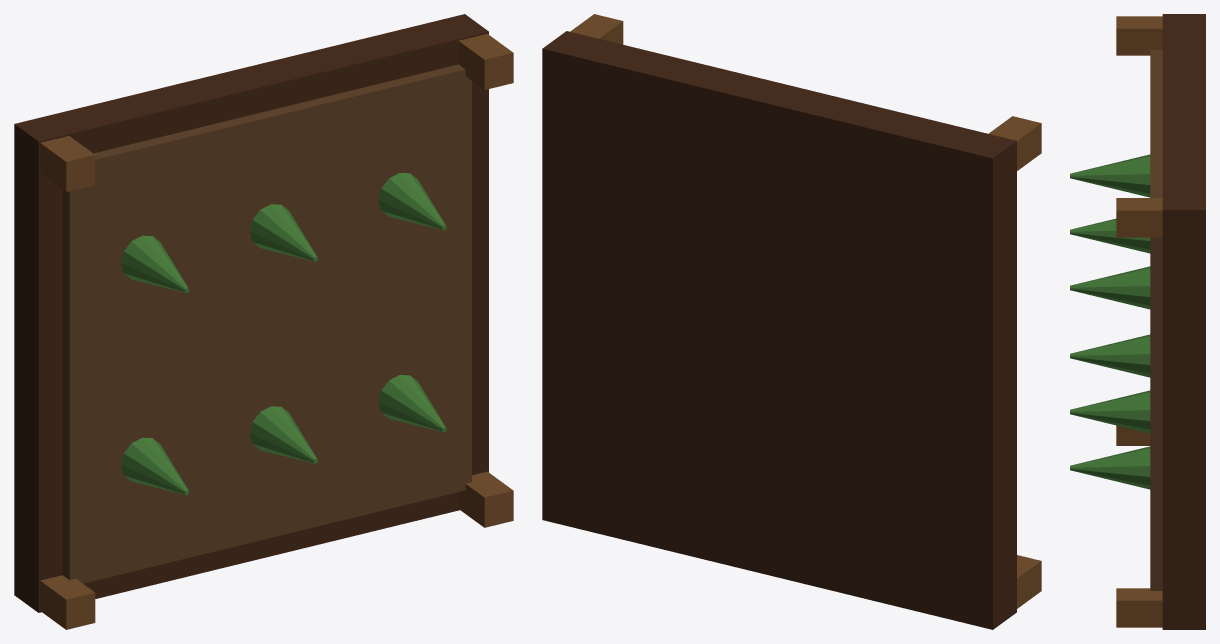
Rendered from growing-plot.obj.
The picture shows the model from 3 angles, left to right: view 1: azimuth 30°, elevation 25°; view 2: azimuth 150°, elevation 25°; view 3: azimuth 270°, elevation 25°; orthographic projection. The views are drawn at different scales.
Parts seen in each view (by area): view 1: growing-plot_soil, growing-plot_plot_base, growing-plot_edge_0_1, growing-plot_edge_0_0, growing-plot_edge_1_1, growing-plot_sprout_1_0, growing-plot_sprout_1_1, growing-plot_sprout_0_1, growing-plot_sprout_0_0, growing-plot_sprout_2_0, growing-plot_sprout_2_1, growing-plot_edge_1_0; view 2: growing-plot_plot_base, growing-plot_edge_0_1, growing-plot_edge_0_0, growing-plot_edge_1_1; view 3: growing-plot_plot_base, growing-plot_soil, growing-plot_sprout_0_0, growing-plot_sprout_2_1, growing-plot_sprout_0_1, growing-plot_sprout_1_0, growing-plot_sprout_2_0, growing-plot_edge_1_1, growing-plot_edge_1_0, growing-plot_edge_0_1, growing-plot_sprout_1_1, growing-plot_edge_0_0.
Part boxes in pixels (x1,y1,x2,y2): growing-plot_soil: (62, 64, 471, 583); growing-plot_plot_base: (14, 14, 488, 612); growing-plot_edge_0_1: (40, 136, 95, 192); growing-plot_edge_0_0: (40, 575, 95, 629); growing-plot_edge_1_1: (458, 34, 513, 89); growing-plot_sprout_1_0: (249, 406, 317, 463); growing-plot_sprout_1_1: (249, 204, 317, 261); growing-plot_sprout_0_1: (121, 235, 189, 292); growing-plot_sprout_0_0: (121, 437, 189, 495); growing-plot_sprout_2_0: (378, 375, 446, 432); growing-plot_sprout_2_1: (378, 173, 446, 230); growing-plot_edge_1_0: (458, 471, 513, 527); growing-plot_plot_base: (542, 31, 1016, 629); growing-plot_edge_0_1: (988, 116, 1041, 170); growing-plot_edge_0_0: (1017, 555, 1041, 608); growing-plot_edge_1_1: (570, 14, 623, 44); growing-plot_plot_base: (1162, 14, 1205, 629); growing-plot_soil: (1150, 49, 1162, 590); growing-plot_sprout_0_0: (1070, 334, 1150, 377); growing-plot_sprout_2_1: (1070, 266, 1150, 309); growing-plot_sprout_0_1: (1070, 154, 1150, 197); growing-plot_sprout_1_0: (1070, 390, 1150, 433); growing-plot_sprout_2_0: (1070, 446, 1150, 489); growing-plot_edge_1_1: (1116, 198, 1162, 237); growing-plot_edge_1_0: (1116, 588, 1162, 627); growing-plot_edge_0_1: (1116, 16, 1162, 55); growing-plot_sprout_1_1: (1070, 218, 1150, 253); growing-plot_edge_0_0: (1116, 425, 1150, 445).
Size of the model in its own units: 2.8 by 2.8 by 0.82.
